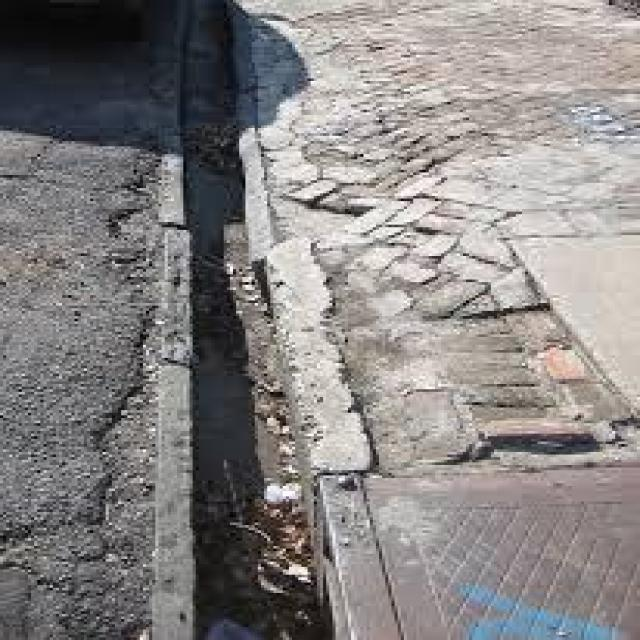curb: (135, 319, 366, 633), (162, 5, 277, 312)
